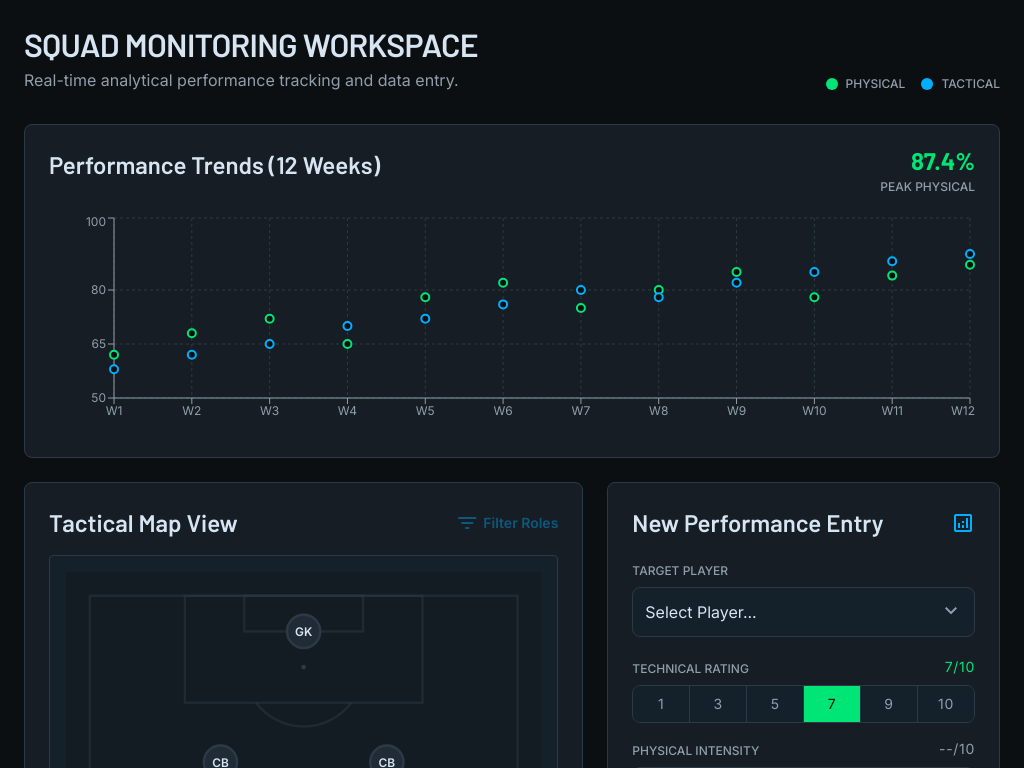
Test: CoachDashboard performans formu › eksik puanlamada uyarir
The image size is (1024, 768).
Select "K. Arslan (CM) - #08" in the dropdown labelled "Target Player" at (804, 612), box [632,587,975,637]
(page scrolled)
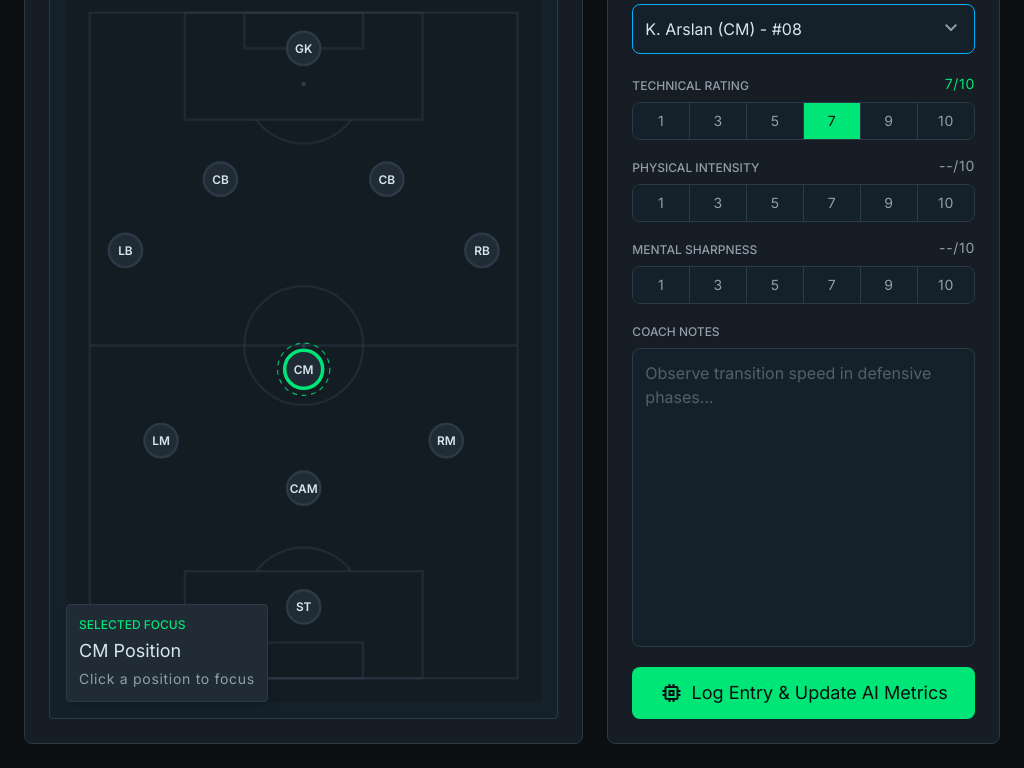
Click the button "Log Entry & Update AI Metrics".
click(804, 693)  # box [632,667,975,719]
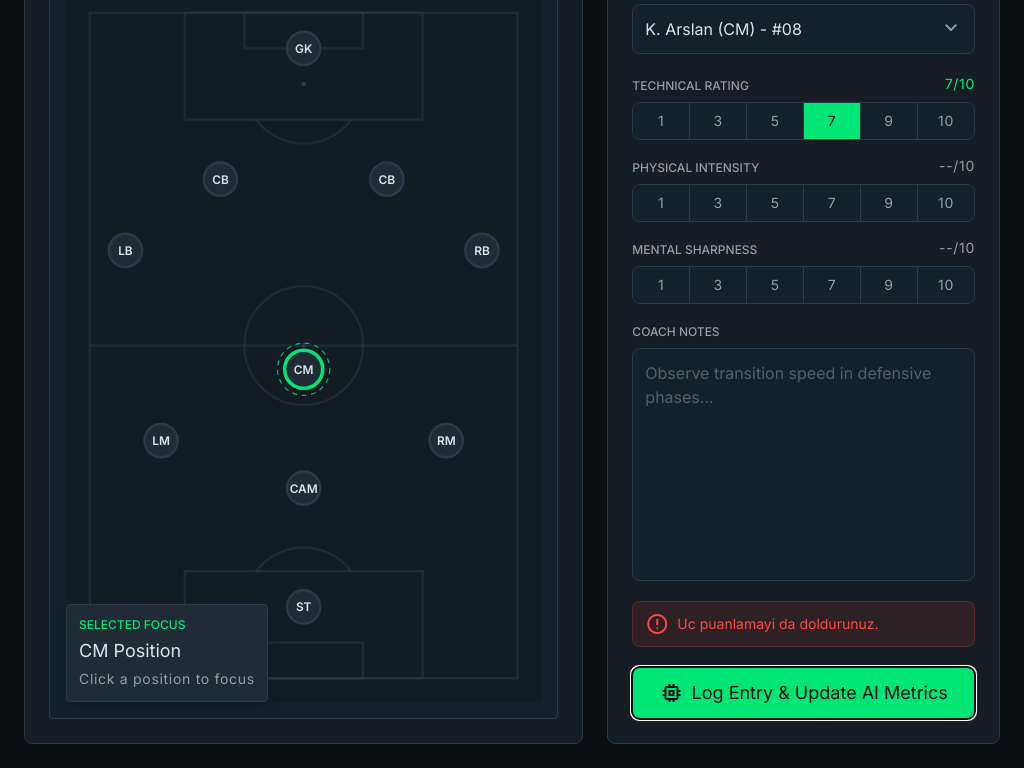
Expected: the message reads "Uc puanlamayi da doldurunuz.", [677,615,878,632]
